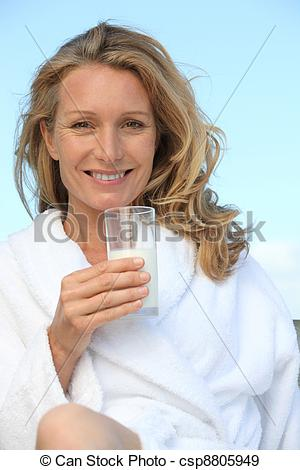glass of milk: (99, 211, 162, 317)
